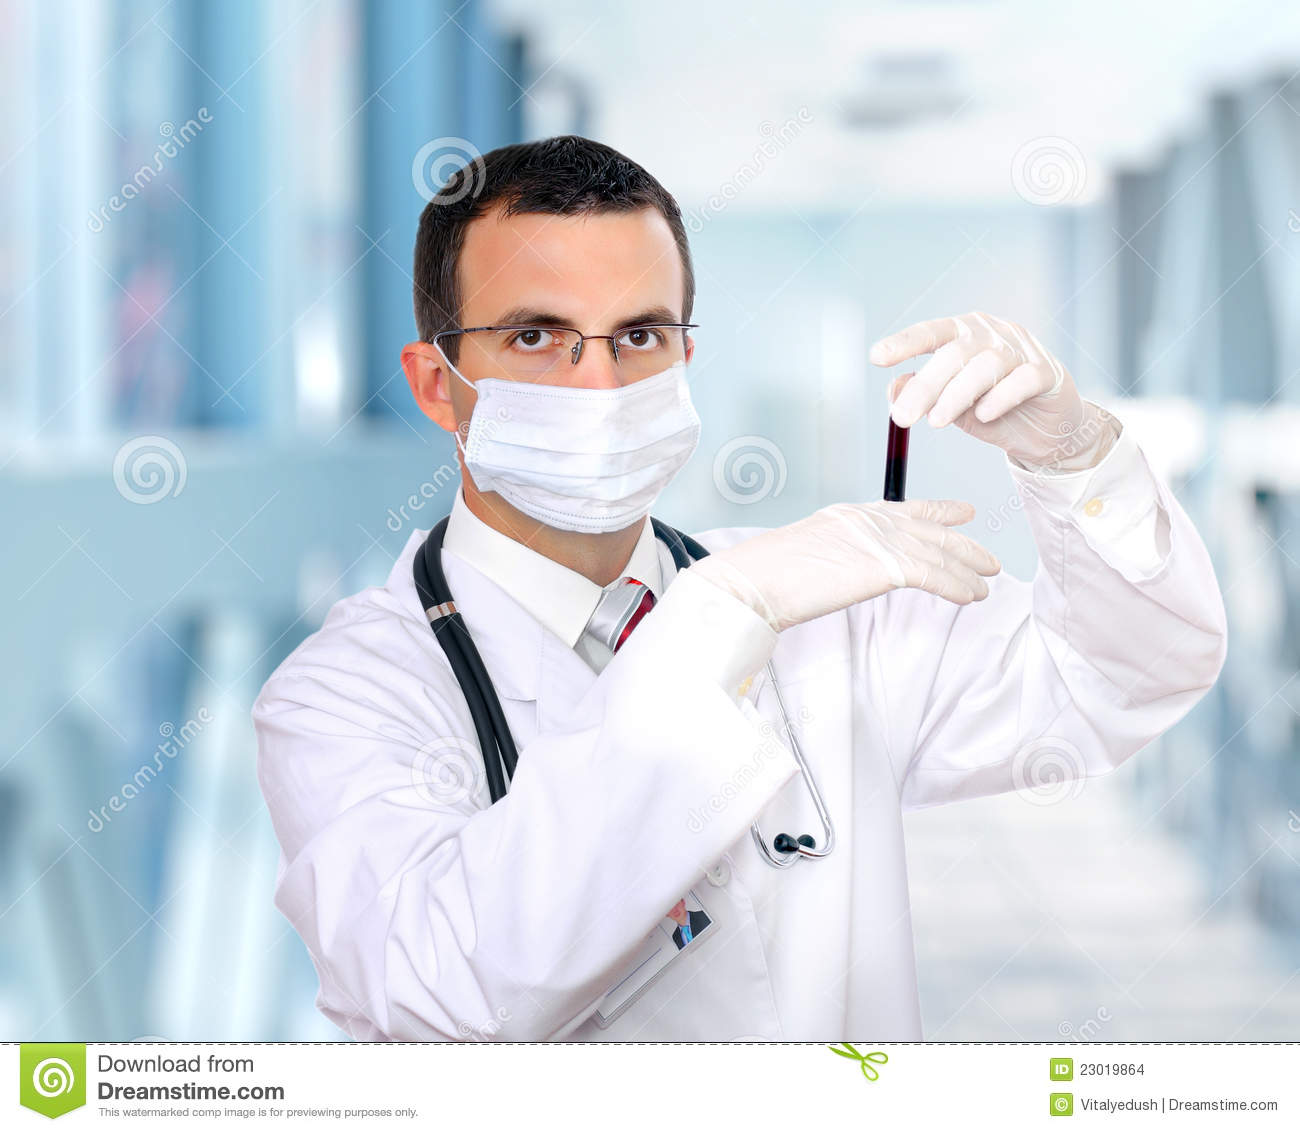mask: (462, 356, 706, 539)
